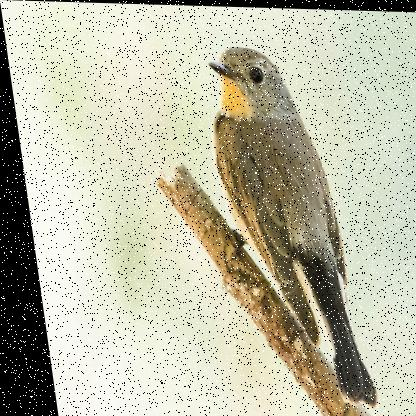Burung: (198, 43, 378, 404)
